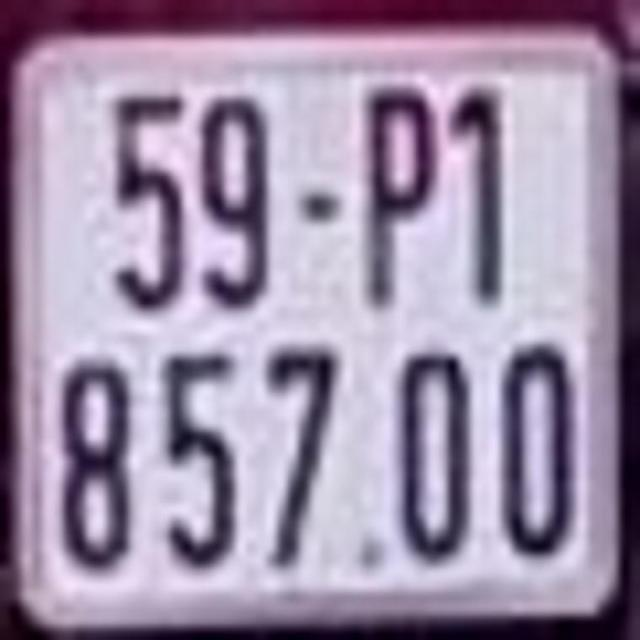0: (504, 344, 578, 559), (401, 350, 471, 572)
1: (446, 84, 504, 306)
5: (112, 92, 188, 300), (168, 354, 238, 570)
7: (264, 342, 342, 564)
8: (60, 352, 134, 575)
9: (196, 96, 271, 304)
P: (364, 77, 441, 320)
